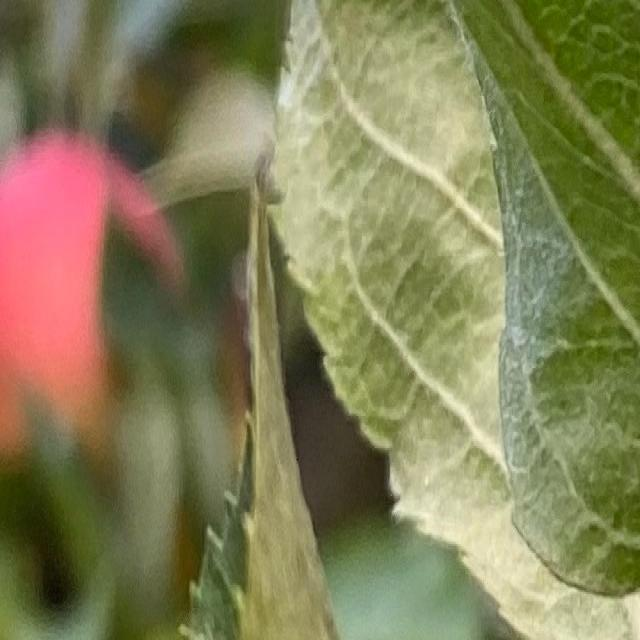Apples: (0, 132, 184, 470)
